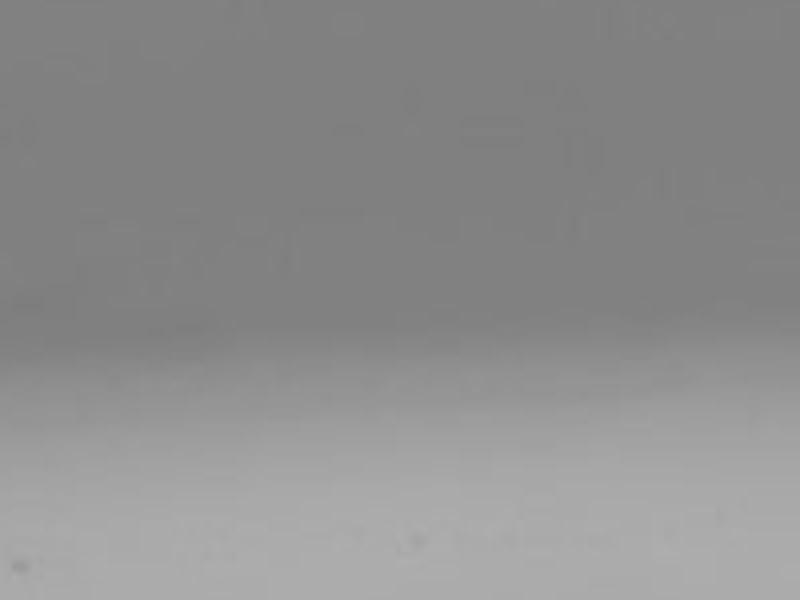defect: (8, 555, 41, 581), (402, 529, 432, 553)
